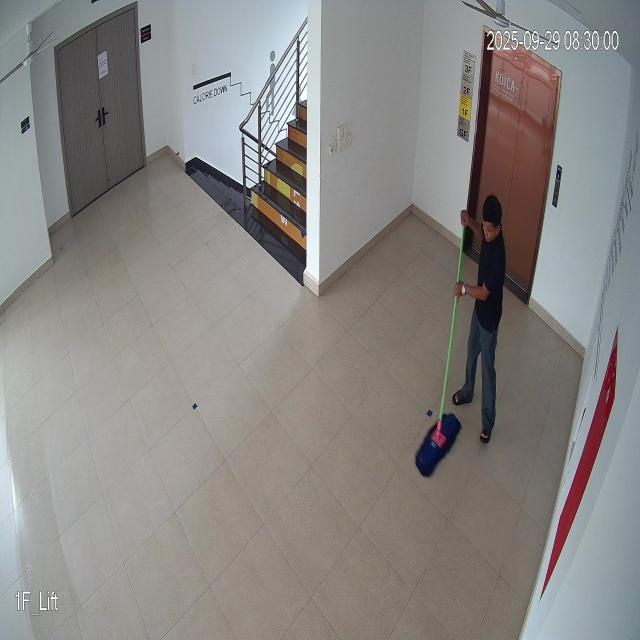face: (479, 190, 503, 247)
